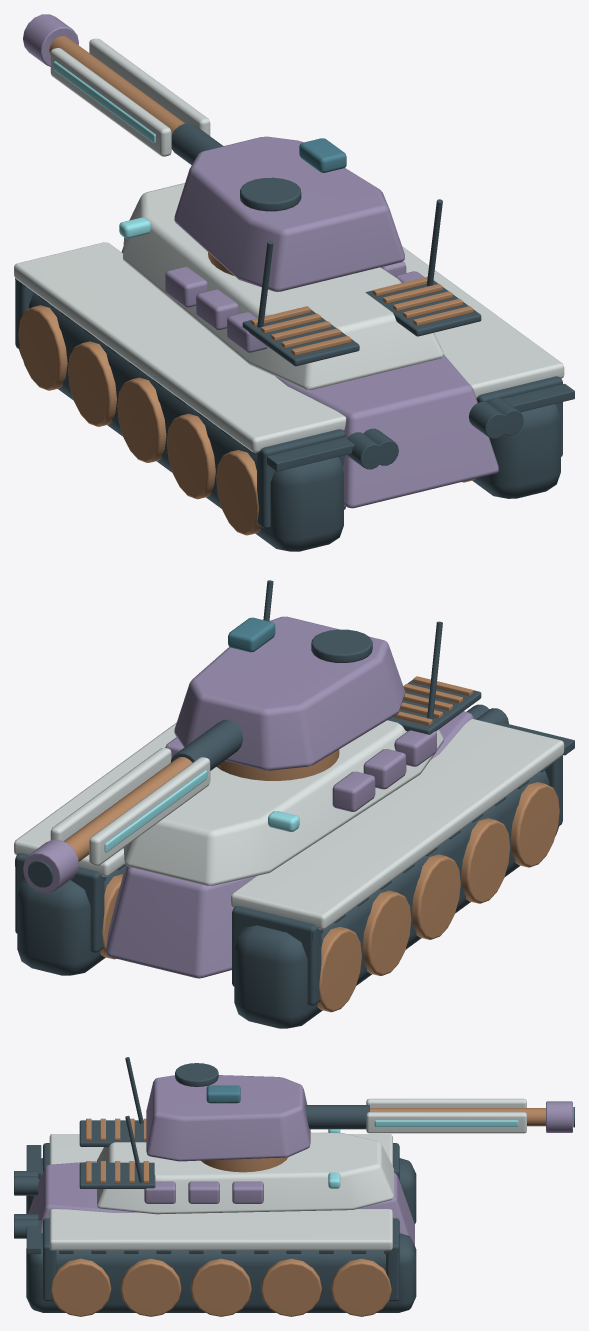
The model's file is NeedleTank115.fbx.
3 views of the same model, one above another, from view 1: azimuth 30°, elevation 25°; view 2: azimuth 150°, elevation 25°; view 3: azimuth 270°, elevation 25° (orthographic). The views are drawn at different scales.
Visible parts, largest first — view 1: Overhanging fender.004, Faceted turret.002, Sloped glacis.002, Cast lower hull.002, Recessed track drive.004, Overhanging fender.005, Recessed track drive.005, Suspension road wheel.048, Suspension road wheel.042, Suspension road wheel.044, Suspension road wheel.046, Split accelerator rail (+20 smaller); view 2: Overhanging fender.004, Faceted turret.002, Sloped glacis.002, Cast lower hull.002, Recessed track drive.004, Recessed track drive.005, Overhanging fender.005, Suspension road wheel.040, Suspension road wheel.044, Suspension road wheel.046, Suspension road wheel.042, Split accelerator rail (+18 smaller); view 3: Overhanging fender.005, Sloped glacis.002, Faceted turret.002, Recessed track drive.005, Cast lower hull.002, Suspension road wheel.053, Suspension road wheel.055, Suspension road wheel.057, Suspension road wheel.059, Suspension road wheel.051, Split accelerator rail.001, Overhanging fender.004 (+22 smaller).
Part boxes in pixels (x1=…): Overhanging fender.004: x1=14, y1=242, x2=346, y2=452; Faceted turret.002: x1=174, y1=136, x2=404, y2=291; Sloped glacis.002: x1=123, y1=183, x2=443, y2=389; Cast lower hull.002: x1=121, y1=246, x2=498, y2=508; Recessed track drive.004: x1=19, y1=292, x2=343, y2=551; Overhanging fender.005: x1=402, y1=246, x2=564, y2=398; Recessed track drive.005: x1=472, y1=404, x2=560, y2=498; Suspension road wheel.048: x1=18, y1=305, x2=67, y2=390; Suspension road wheel.042: x1=166, y1=413, x2=215, y2=499; Suspension road wheel.044: x1=117, y1=377, x2=166, y2=462; Suspension road wheel.046: x1=68, y1=341, x2=116, y2=426; Split accelerator rail: x1=50, y1=48, x2=171, y2=156; Overhanging fender.004: x1=231, y1=719, x2=564, y2=929; Faceted turret.002: x1=174, y1=616, x2=404, y2=770; Sloped glacis.002: x1=123, y1=720, x2=443, y2=886; Cast lower hull.002: x1=106, y1=711, x2=473, y2=978; Recessed track drive.004: x1=234, y1=770, x2=558, y2=1028; Recessed track drive.005: x1=17, y1=866, x2=125, y2=975; Overhanging fender.005: x1=14, y1=722, x2=176, y2=876; Suspension road wheel.040: x1=510, y1=782, x2=559, y2=867; Suspension road wheel.044: x1=411, y1=854, x2=460, y2=939; Suspension road wheel.046: x1=362, y1=890, x2=411, y2=975; Suspension road wheel.042: x1=461, y1=818, x2=510, y2=903; Split accelerator rail: x1=89, y1=757, x2=210, y2=865; Overhanging fender.005: x1=49, y1=1209, x2=392, y2=1250; Sloped glacis.002: x1=97, y1=1132, x2=393, y2=1214; Faceted turret.002: x1=146, y1=1075, x2=310, y2=1161; Recessed track drive.005: x1=26, y1=1233, x2=416, y2=1312; Cast lower hull.002: x1=28, y1=1161, x2=414, y2=1245; Suspension road wheel.053: x1=120, y1=1258, x2=181, y2=1316; Suspension road wheel.055: x1=190, y1=1258, x2=251, y2=1316; Suspension road wheel.057: x1=261, y1=1258, x2=321, y2=1316; Suspension road wheel.059: x1=331, y1=1258, x2=391, y2=1316; Suspension road wheel.051: x1=50, y1=1258, x2=111, y2=1316; Split accelerator rail.001: x1=366, y1=1112, x2=526, y2=1133; Overhanging fender.004: x1=49, y1=1134, x2=392, y2=1165.
Size of the model in its own units: 210 by 175 by 460.
